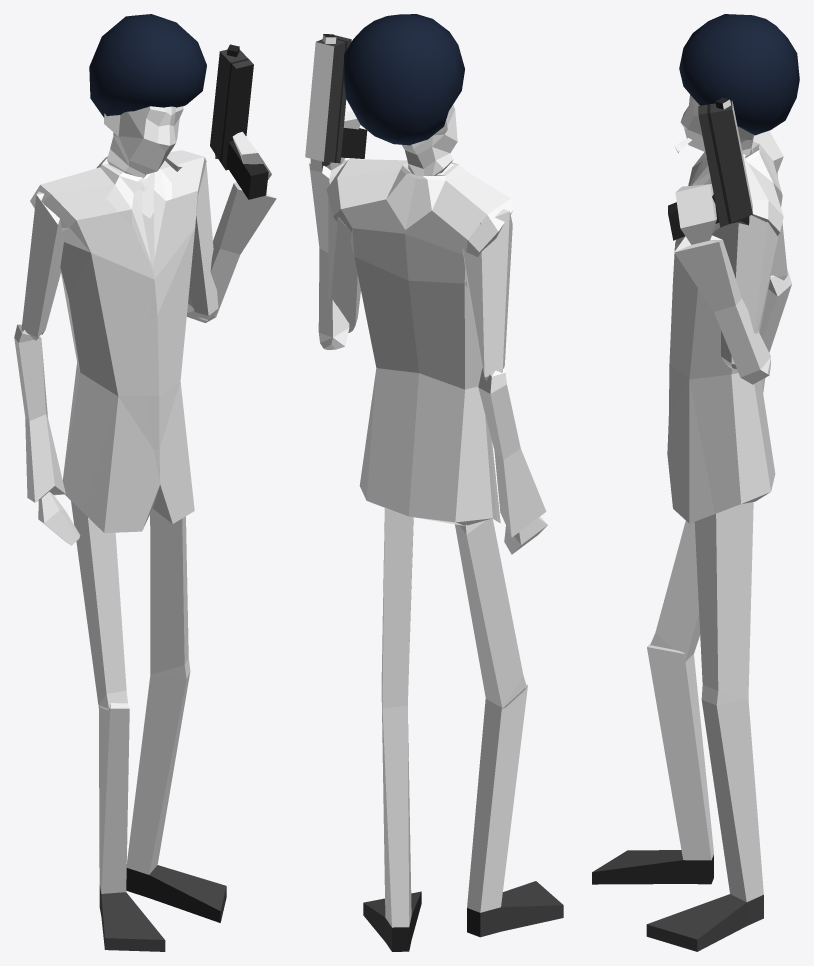
The model's file is character_afro.FBX.
3 renders of one model, left to right at view 1: azimuth 30°, elevation 25°; view 2: azimuth 150°, elevation 25°; view 3: azimuth 270°, elevation 25°, orthographic. The views are drawn at different scales.
Visible parts, largest first — view 1: head, weapon; view 2: head, weapon; view 3: head, weapon.
Boxes of the visible parts, bbox=[...] form: head: bbox=[14, 14, 276, 951]; weapon: bbox=[210, 44, 268, 199]; head: bbox=[309, 14, 563, 951]; weapon: bbox=[305, 34, 367, 172]; head: bbox=[592, 14, 799, 951]; weapon: bbox=[668, 97, 752, 240].
Bounding box in the file's own units: 52.51 × 197 × 41.11.
2 materials, 2 textured.
